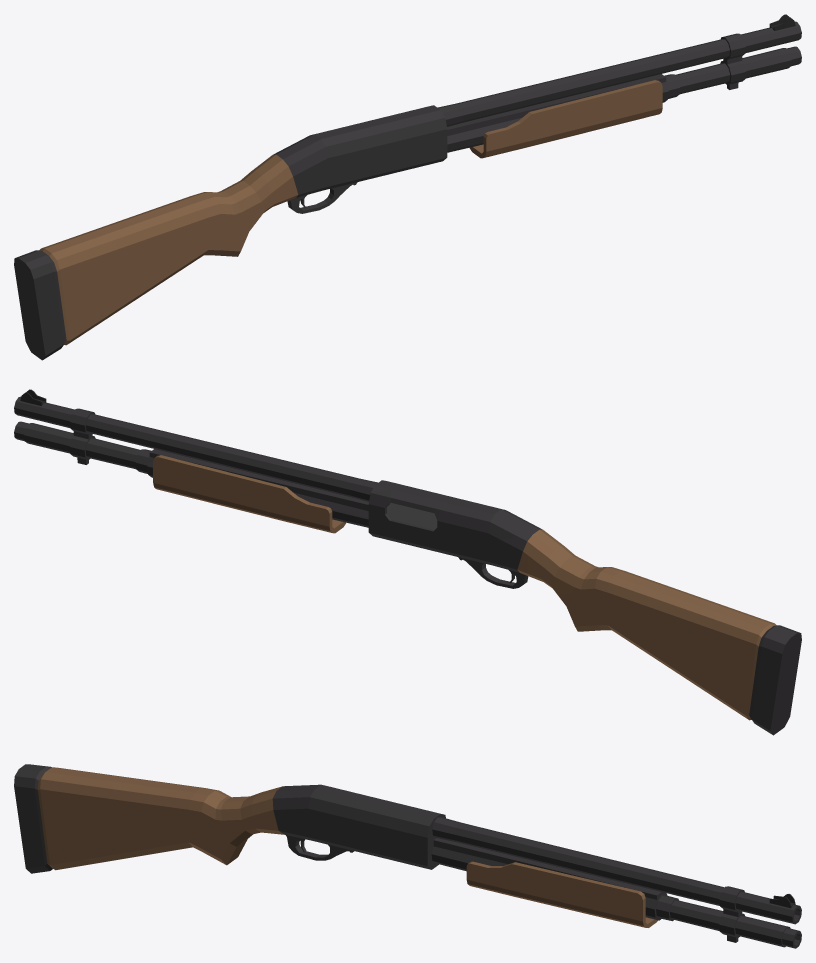
The model's file is SM_Shotgun_01.glb.
3 views of the same model, one above another, from view 1: azimuth 30°, elevation 25°; view 2: azimuth 150°, elevation 25°; view 3: azimuth 330°, elevation 25° (orthographic).
Parts seen in each view (by area): view 1: SM_Shotgun_01; view 2: SM_Shotgun_01; view 3: SM_Shotgun_01.
Boxes of the visible parts, x1=… form: SM_Shotgun_01: x1=14, y1=14, x2=801, y2=360; SM_Shotgun_01: x1=14, y1=389, x2=801, y2=735; SM_Shotgun_01: x1=14, y1=764, x2=801, y2=948.
Bounding box in the file's own units: 1.14 × 0.2202 × 0.0506.
Materials: 1 (1 with a texture image).
